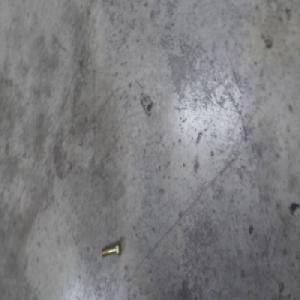Bolt: (100, 239, 122, 258)
